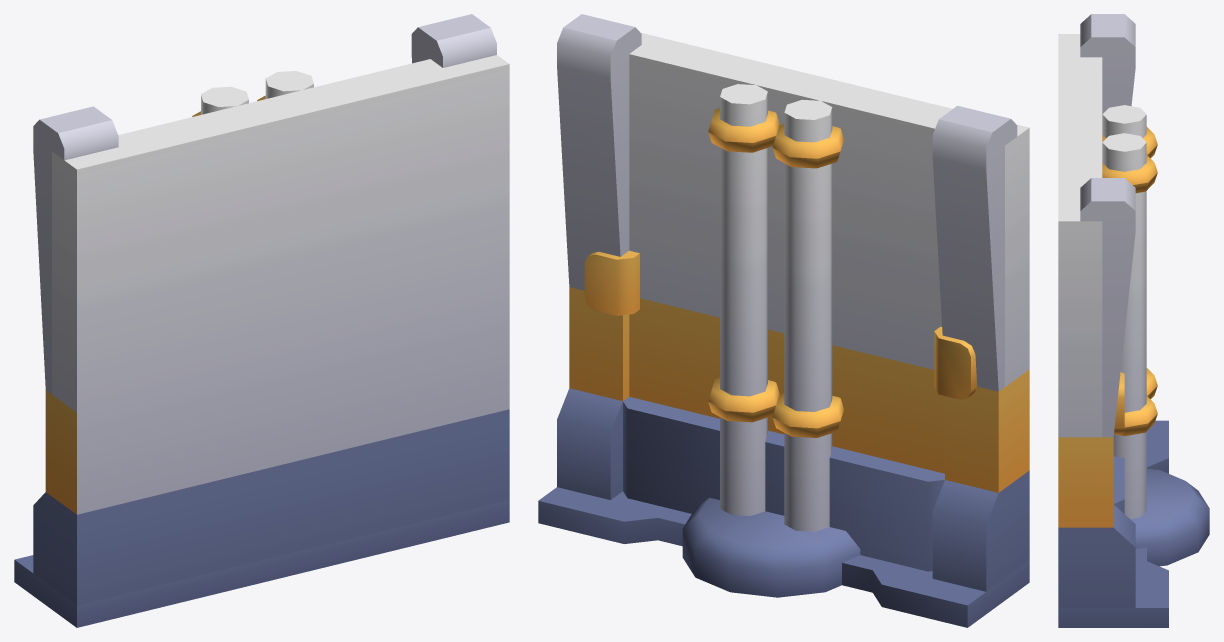
File: template-wall-detail-a.glb
3 renders of one model, left to right at view 1: azimuth 30°, elevation 25°; view 2: azimuth 150°, elevation 25°; view 3: azimuth 270°, elevation 25°, orthographic. The views are drawn at different scales.
Parts seen in each view (by area): view 1: template-wall-detail-a; view 2: template-wall-detail-a; view 3: template-wall-detail-a.
Part boxes in pixels (box(x1,y1,x2,y2)): template-wall-detail-a: box(14, 14, 509, 627); template-wall-detail-a: box(538, 14, 1029, 627); template-wall-detail-a: box(1058, 14, 1209, 627).
Bounding box in the file's own units: 4 × 4.25 × 1.37.
Materials: 1 (1 with a texture image).
